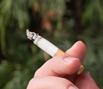smoke: (24, 27, 60, 55)
